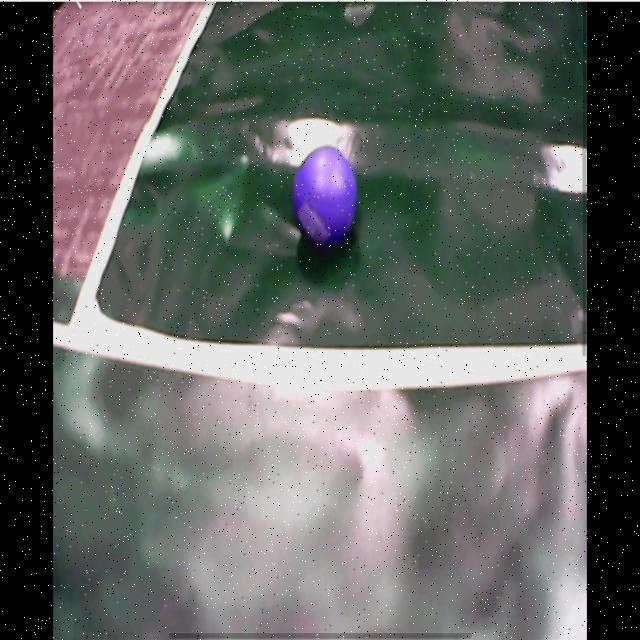ball: (295, 145, 357, 244)
